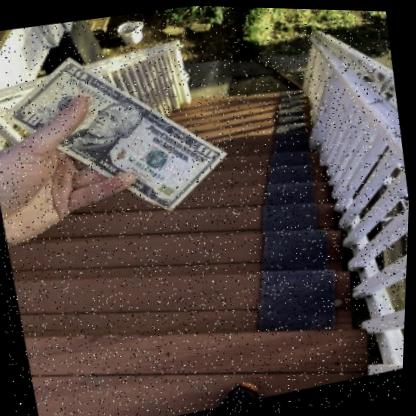ten-front: (3, 58, 227, 214)
